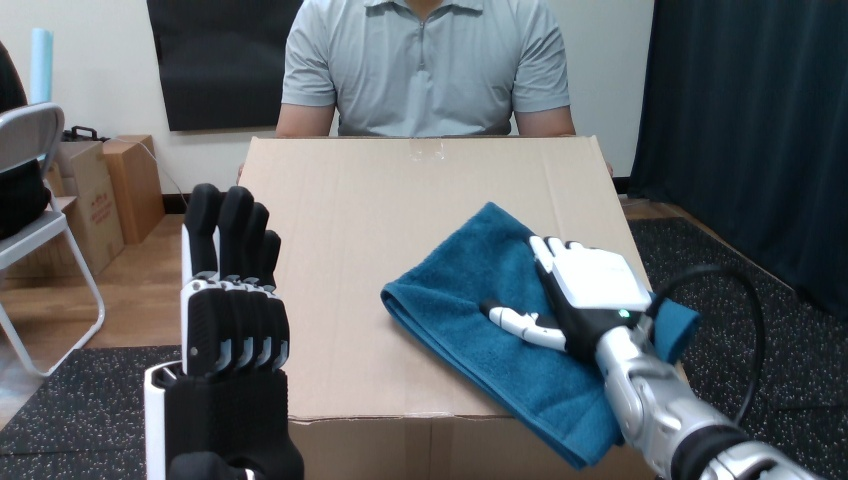left robot hand: (481, 236, 817, 479), (144, 184, 303, 478), (650, 271, 756, 421)
